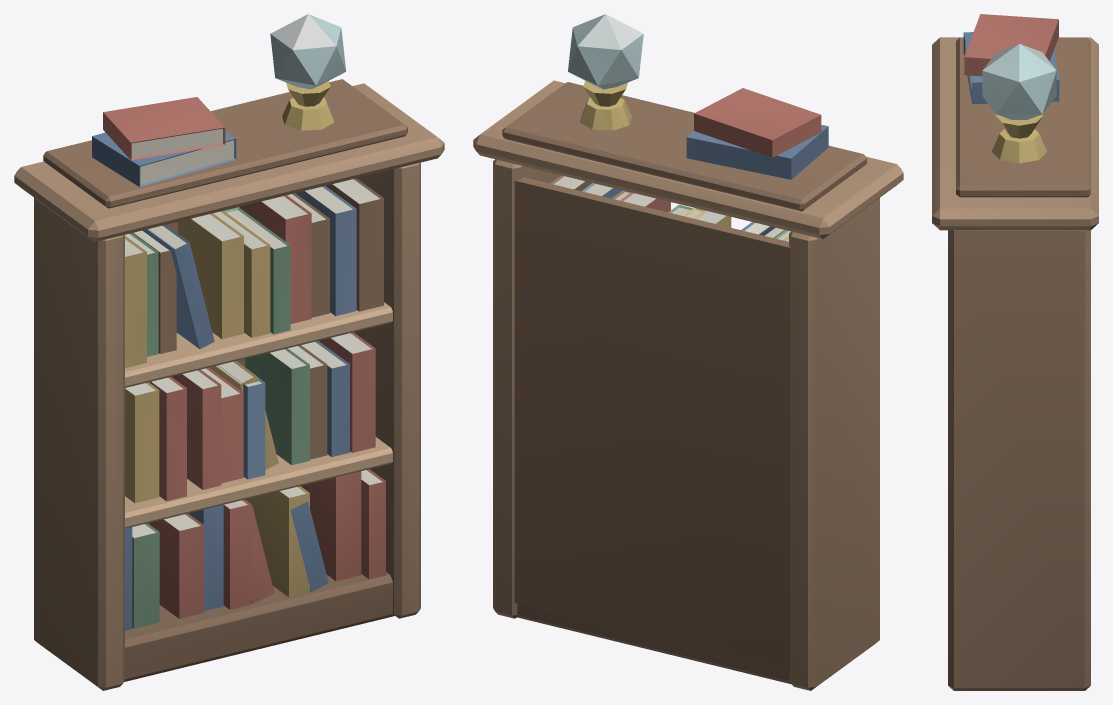
The model's file is bookshelf.glb.
3 renders of one model, left to right at view 1: azimuth 30°, elevation 25°; view 2: azimuth 150°, elevation 25°; view 3: azimuth 270°, elevation 25°, orthographic. The views are drawn at different scales.
Visible parts, largest first — view 1: bookshelf; view 2: bookshelf; view 3: bookshelf.
Boxes of the visible parts, x1,y1,x2,y2 form: bookshelf: (14,14,444,690); bookshelf: (473,14,903,690); bookshelf: (932,14,1098,690).
Size of the model in its own units: 1.06 by 1.69 by 0.42.
